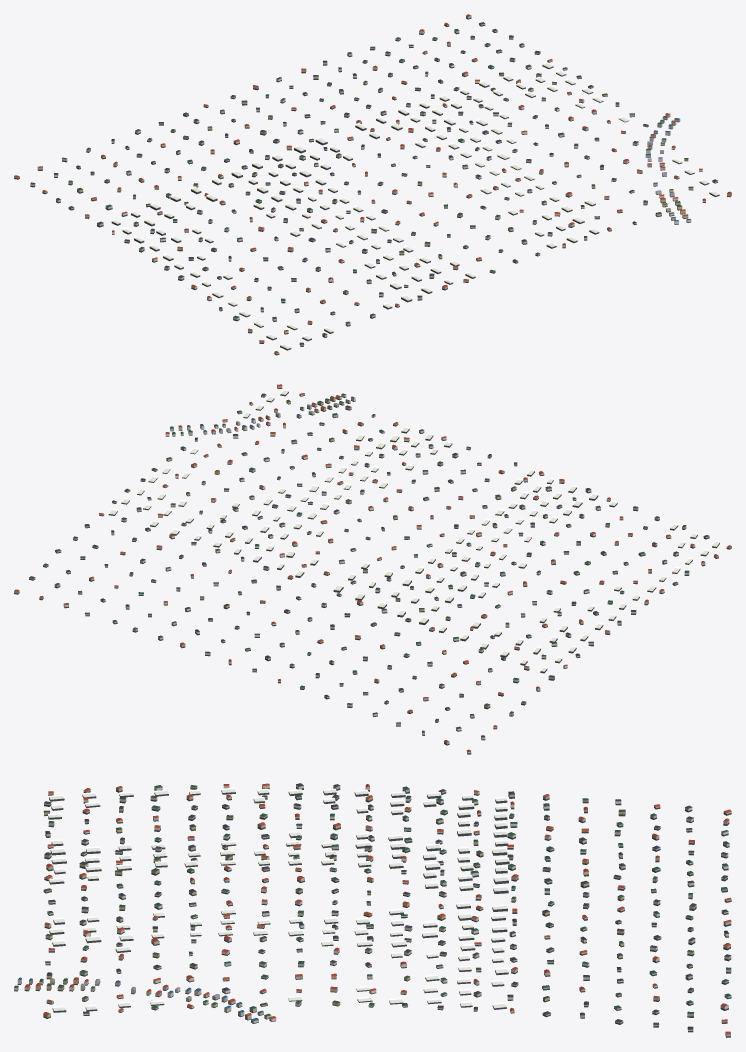
File: buildings_T_W01_N06.glb
3 renders of one model, top to bottom at view 1: azimuth 30°, elevation 25°; view 2: azimuth 150°, elevation 25°; view 3: azimuth 270°, elevation 25°, orthographic. The views are drawn at different scales.
Parts seen in each view (by area): view 1: T_W01_N06_slope_seating_foundations, T_W01_N06_roofs_agri_greenhouse_arch, T_W01_N06_roofs_roof_slate_French_villa_hip, T_W01_N06_roofs_roof_pine_green_hip, T_W01_N06_roofs_roof_terracotta_gable, T_W01_N06_walls_wall_pastel_sand_gray, T_W01_N06_walls_wall_modern_warm_white, T_W01_N06_walls_wall_dalat_cream_stucco, T_W01_N06_walls_wall_french_ochre_villa; view 2: T_W01_N06_slope_seating_foundations, T_W01_N06_roofs_agri_greenhouse_arch, T_W01_N06_roofs_roof_slate_French_villa_hip, T_W01_N06_roofs_roof_pine_green_hip, T_W01_N06_walls_wall_pastel_sand_gray, T_W01_N06_roofs_roof_terracotta_gable, T_W01_N06_walls_wall_modern_warm_white, T_W01_N06_walls_wall_dalat_cream_stucco, T_W01_N06_walls_wall_french_ochre_villa; view 3: T_W01_N06_slope_seating_foundations, T_W01_N06_roofs_agri_greenhouse_arch, T_W01_N06_roofs_roof_slate_French_villa_hip, T_W01_N06_roofs_roof_pine_green_hip, T_W01_N06_roofs_roof_terracotta_gable, T_W01_N06_walls_wall_pastel_sand_gray, T_W01_N06_walls_wall_modern_warm_white, T_W01_N06_walls_wall_dalat_cream_stucco, T_W01_N06_walls_wall_french_ochre_villa.
Part boxes in pixels (x1,y1,x2,y2): T_W01_N06_slope_seating_foundations: [14, 17, 731, 355]; T_W01_N06_roofs_agri_greenhouse_arch: [111, 62, 719, 348]; T_W01_N06_roofs_roof_slate_French_villa_hip: [30, 22, 717, 344]; T_W01_N06_roofs_roof_pine_green_hip: [62, 28, 693, 323]; T_W01_N06_roofs_roof_terracotta_gable: [14, 14, 731, 353]; T_W01_N06_walls_wall_pastel_sand_gray: [37, 15, 688, 354]; T_W01_N06_walls_wall_modern_warm_white: [30, 30, 705, 319]; T_W01_N06_walls_wall_dalat_cream_stucco: [14, 23, 717, 345]; T_W01_N06_walls_wall_french_ochre_villa: [68, 24, 731, 342]; T_W01_N06_slope_seating_foundations: [14, 387, 731, 754]; T_W01_N06_roofs_agri_greenhouse_arch: [108, 389, 719, 671]; T_W01_N06_roofs_roof_slate_French_villa_hip: [29, 393, 709, 737]; T_W01_N06_roofs_roof_pine_green_hip: [43, 393, 689, 732]; T_W01_N06_walls_wall_pastel_sand_gray: [14, 396, 731, 744]; T_W01_N06_roofs_roof_terracotta_gable: [14, 384, 731, 752]; T_W01_N06_walls_wall_modern_warm_white: [63, 394, 689, 739]; T_W01_N06_walls_wall_dalat_cream_stucco: [29, 394, 709, 753]; T_W01_N06_walls_wall_french_ochre_villa: [39, 385, 718, 712]; T_W01_N06_slope_seating_foundations: [14, 787, 731, 1037]; T_W01_N06_roofs_agri_greenhouse_arch: [48, 787, 509, 1010]; T_W01_N06_roofs_roof_slate_French_villa_hip: [43, 783, 730, 1029]; T_W01_N06_roofs_roof_pine_green_hip: [14, 785, 731, 1024]; T_W01_N06_roofs_roof_terracotta_gable: [24, 783, 731, 1034]; T_W01_N06_walls_wall_pastel_sand_gray: [24, 786, 731, 1036]; T_W01_N06_walls_wall_modern_warm_white: [14, 785, 731, 1021]; T_W01_N06_walls_wall_dalat_cream_stucco: [39, 784, 731, 1030]; T_W01_N06_walls_wall_french_ochre_villa: [29, 786, 730, 1022].
Bounding box in the file's own units: 1841 × 281 × 1813.
